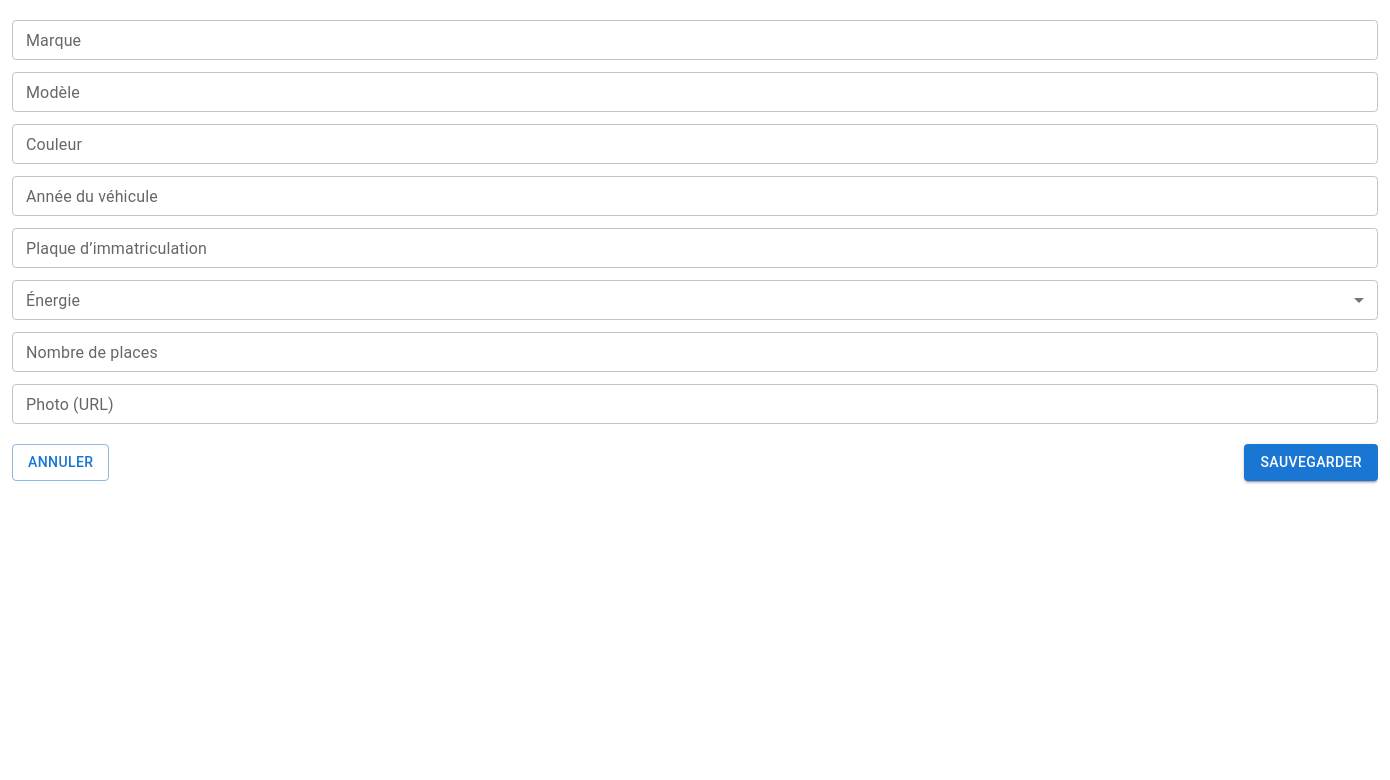
it: VehicleForm › displays validation errors if invalid data
Click the button "Sauvegarder" at (1311, 462), box x1=1244 y1=444 x2=1378 y2=480
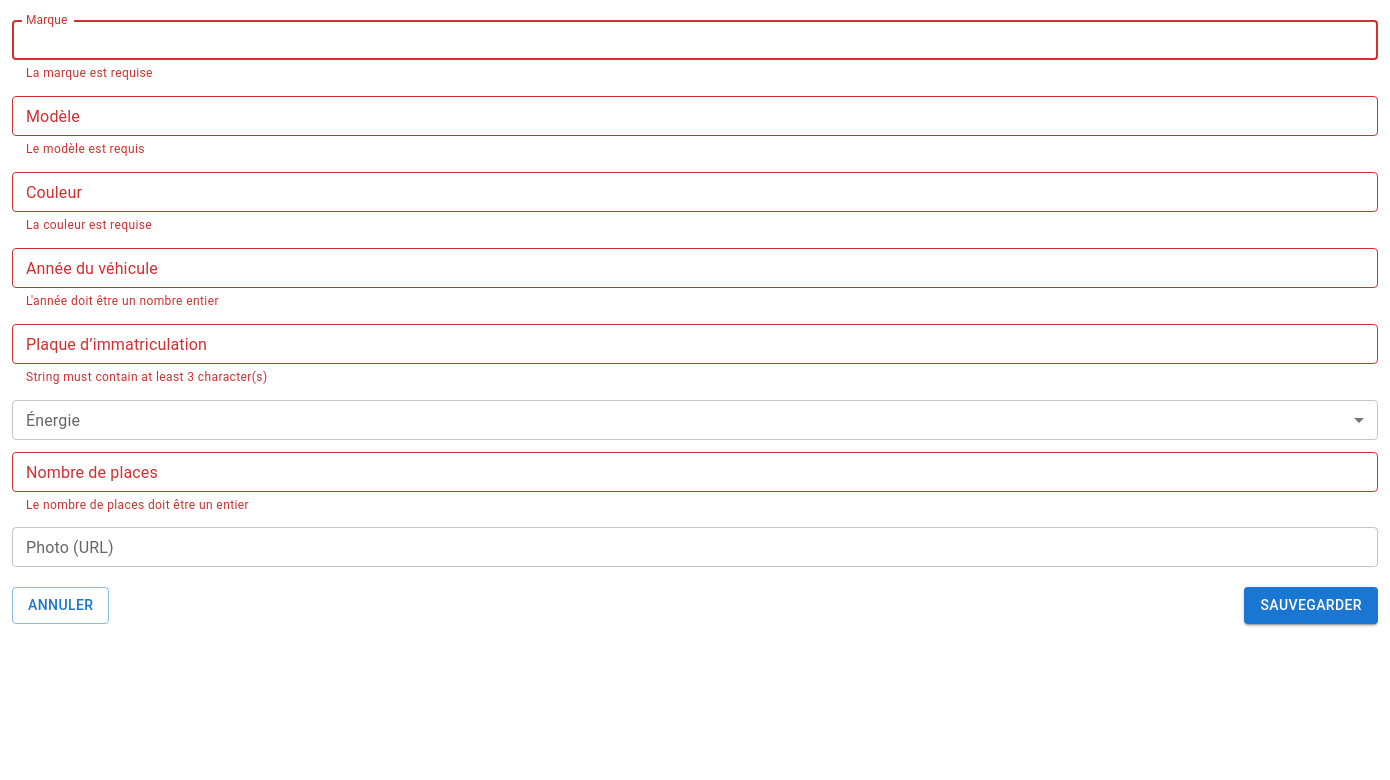
Expected: the text "La marque est requise" is shown, x1=26 y1=66 x2=153 y2=80
Expected: the text "Le modèle est requis" is shown, x1=26 y1=142 x2=145 y2=156
